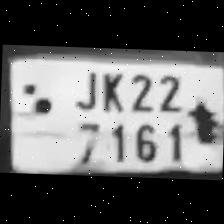1: (100, 117, 130, 163), (159, 116, 187, 160)
2: (124, 68, 156, 113), (152, 70, 184, 112)
6: (128, 118, 160, 162)
7: (66, 116, 102, 168)
J: (71, 66, 101, 110)
K: (95, 65, 127, 113)
